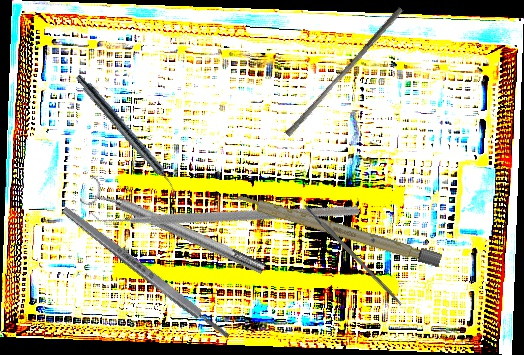Chopper: (85, 79, 361, 337)
Fixation Ring: (78, 173, 270, 285)
Handpiece: (71, 71, 184, 199)
Pusher: (284, 2, 404, 141)
Scalpel Handle: (60, 204, 232, 342), (229, 190, 443, 268), (303, 202, 404, 308)
